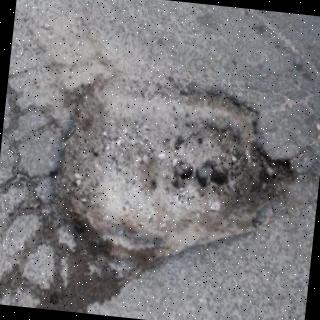pothole: (51, 79, 317, 274)
